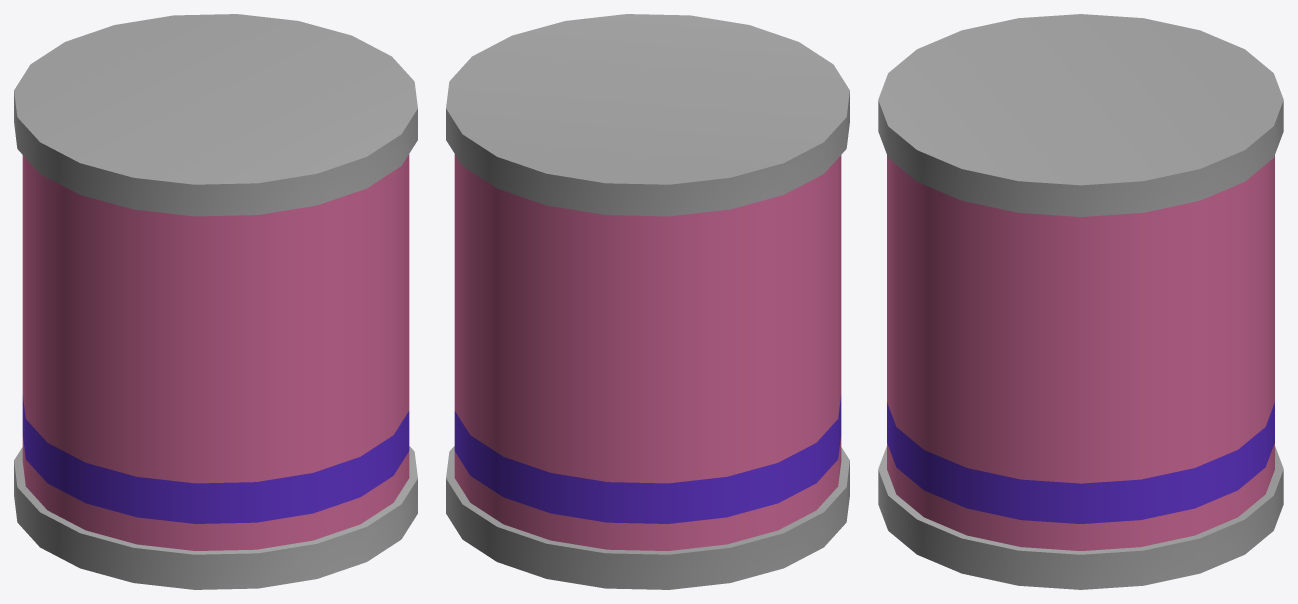
Rendered from Ürün82.fbx.
3 renders of one model, left to right at view 1: azimuth 30°, elevation 25°; view 2: azimuth 150°, elevation 25°; view 3: azimuth 270°, elevation 25°, orthographic.
Parts seen in each view (by area): view 1: pCylinder53; view 2: pCylinder53; view 3: pCylinder53.
Part boxes in pixels (x1=…): pCylinder53: x1=14, y1=14, x2=417, y2=589; pCylinder53: x1=446, y1=14, x2=849, y2=589; pCylinder53: x1=878, y1=14, x2=1283, y2=589.
Size of the model in its own units: 9.51 by 10.47 by 9.51.
